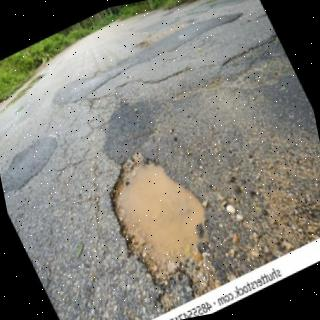pothole: (109, 153, 222, 299)
